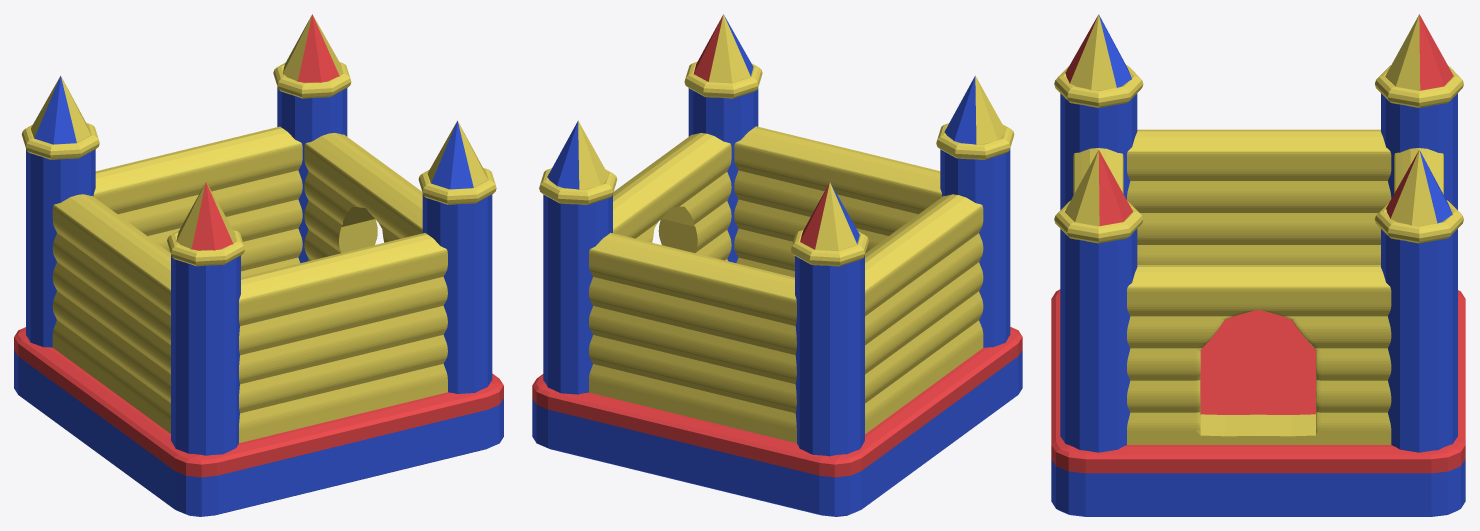
Rendered from bouncyCastle.fbx.
3 renders of one model, left to right at view 1: azimuth 30°, elevation 25°; view 2: azimuth 150°, elevation 25°; view 3: azimuth 270°, elevation 25°, orthographic. The views are drawn at different scales.
Visible parts, largest first — view 1: Cube.003, Cube.004, Cube, Cube.002, Cube.001, Cylinder.001, Cylinder.002, Cylinder.003, Gate.009, Cylinder.004, Gate.012, Cone.001 (+8 smaller); view 2: Cube.002, Cube.004, Cube, Cube.003, Cube.001, Cylinder.003, Cylinder.004, Cylinder.001, Gate.009, Cylinder.002, Gate.006, Cone.001 (+8 smaller); view 3: Cube.004, Cube.001, Cube, Cylinder.002, Cylinder.004, Gate.009, Gate.012, Gate.006, Cylinder.001, Cylinder.003, Gate.014, Gate.011 (+14 smaller).
Part boxes in pixels (x1,y1,x2,y2): Cube.003: (239,233,447,443); Cube.004: (52,194,170,433); Cube: (14,350,503,516); Cube.002: (93,126,302,277); Cube.001: (14,327,503,477); Cylinder.001: (171,255,240,455); Cylinder.002: (422,193,492,393); Cylinder.003: (26,149,95,347); Gate.009: (304,133,422,237); Cylinder.004: (277,87,347,262); Gate.012: (304,201,377,261); Cone.001: (176,182,235,250); Cube.002: (589,232,796,443); Cube.004: (865,194,983,433); Cube: (532,350,1022,516); Cube.003: (734,126,942,277); Cube.001: (532,327,1022,477); Cylinder.003: (795,255,864,456); Cylinder.004: (543,194,612,394); Cylinder.001: (940,149,1010,347); Gate.009: (613,133,731,237); Cylinder.002: (688,88,758,262); Gate.006: (658,201,731,260); Cone.001: (944,75,1006,144); Cube.004: (1127,129,1391,264); Cube.001: (1051,289,1465,473); Cube: (1051,459,1465,516); Cylinder.002: (1060,229,1137,452); Cylinder.004: (1381,229,1457,452); Gate.009: (1127,265,1391,310); Gate.012: (1316,348,1391,430); Gate.006: (1127,348,1202,434); Cylinder.001: (1060,93,1137,209); Cylinder.003: (1381,93,1457,209); Gate.014: (1127,414,1391,436); Gate.011: (1290,316,1391,350).
Bounding box in the file's own units: 439 × 413 × 439.
